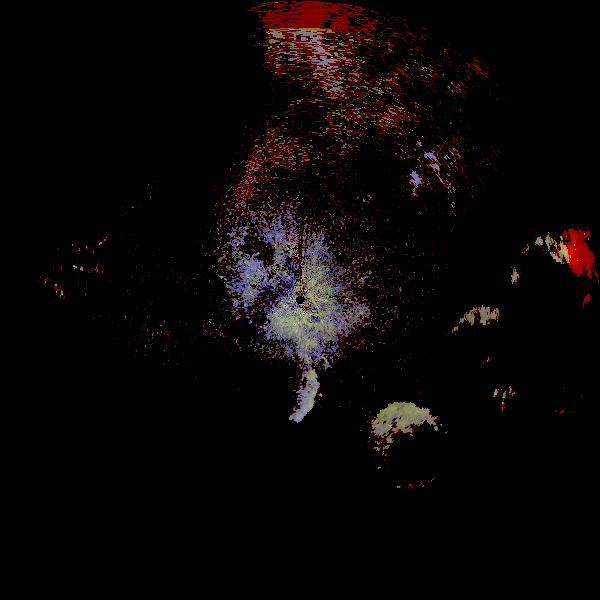roost: (336, 366, 513, 543)
